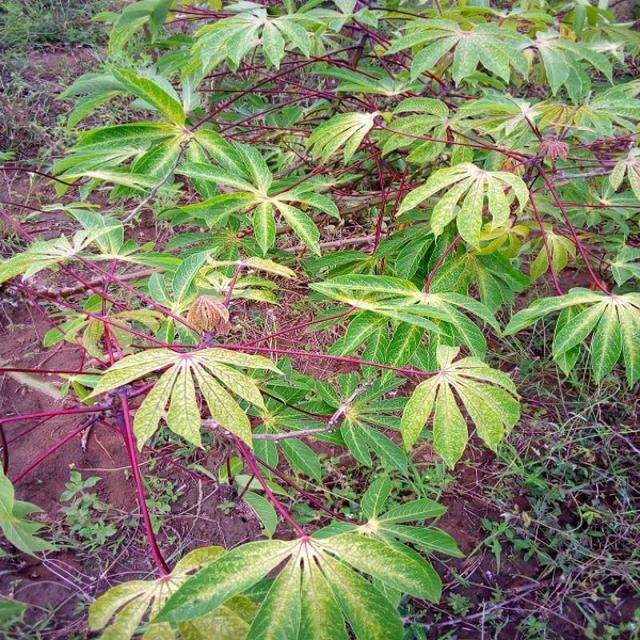cassava leaf: (142, 519, 442, 638), (88, 339, 286, 456), (398, 342, 520, 470)
